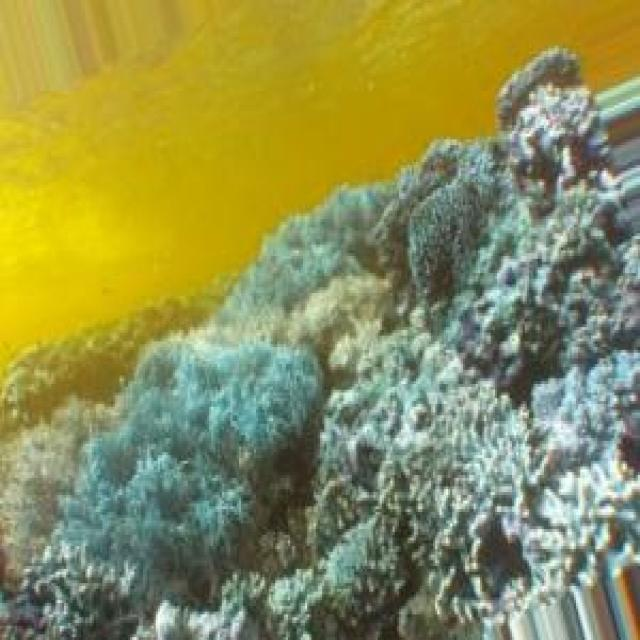Healthy: (1, 49, 640, 640), (49, 345, 323, 586), (375, 381, 571, 607), (483, 189, 640, 405), (216, 183, 390, 314), (366, 137, 463, 302), (1, 413, 84, 587), (405, 185, 487, 321), (507, 86, 615, 187), (326, 519, 414, 624), (498, 43, 586, 129)
